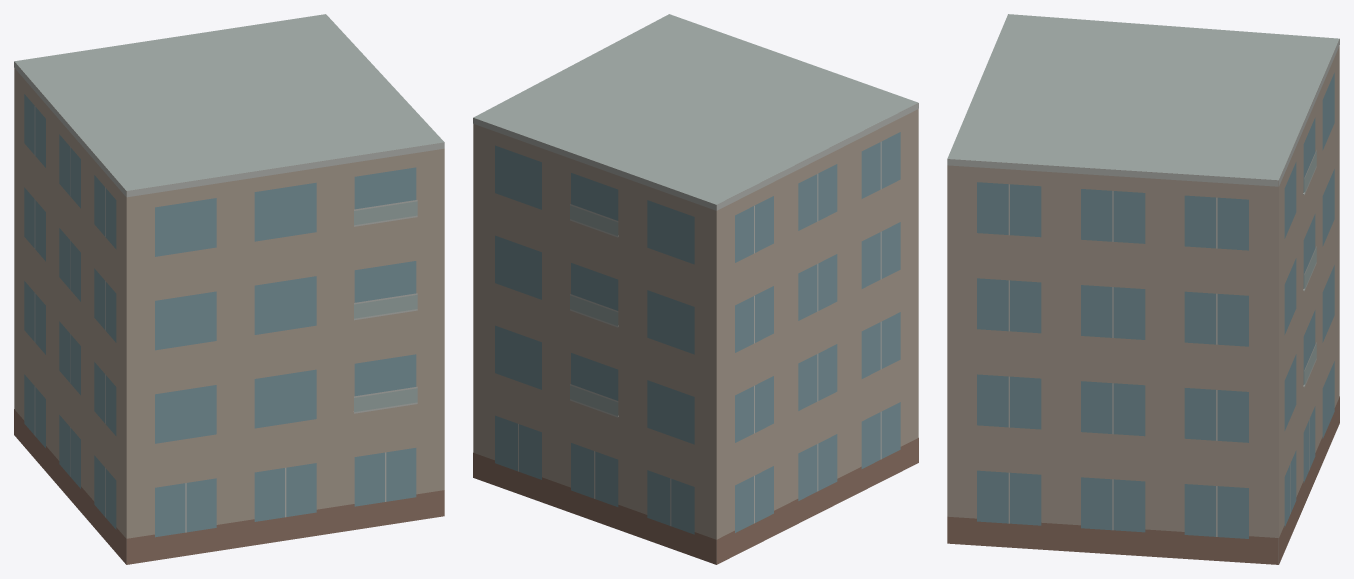
Rendered from survey-upis-32785961.glb.
The picture shows the model from 3 angles, left to right: view 1: azimuth 30°, elevation 25°; view 2: azimuth 150°, elevation 25°; view 3: azimuth 270°, elevation 25°; orthographic projection. The views are drawn at different scales.
Parts seen in each view (by area): view 1: survey-upis-32785961.tmp; view 2: survey-upis-32785961.tmp; view 3: survey-upis-32785961.tmp.
Part boxes in pixels (x1,y1,x2,y2): survey-upis-32785961.tmp: (14,14,444,564); survey-upis-32785961.tmp: (473,14,918,564); survey-upis-32785961.tmp: (947,14,1339,564).
Size of the model in its own units: 13.45 by 14.5 by 13.42.
